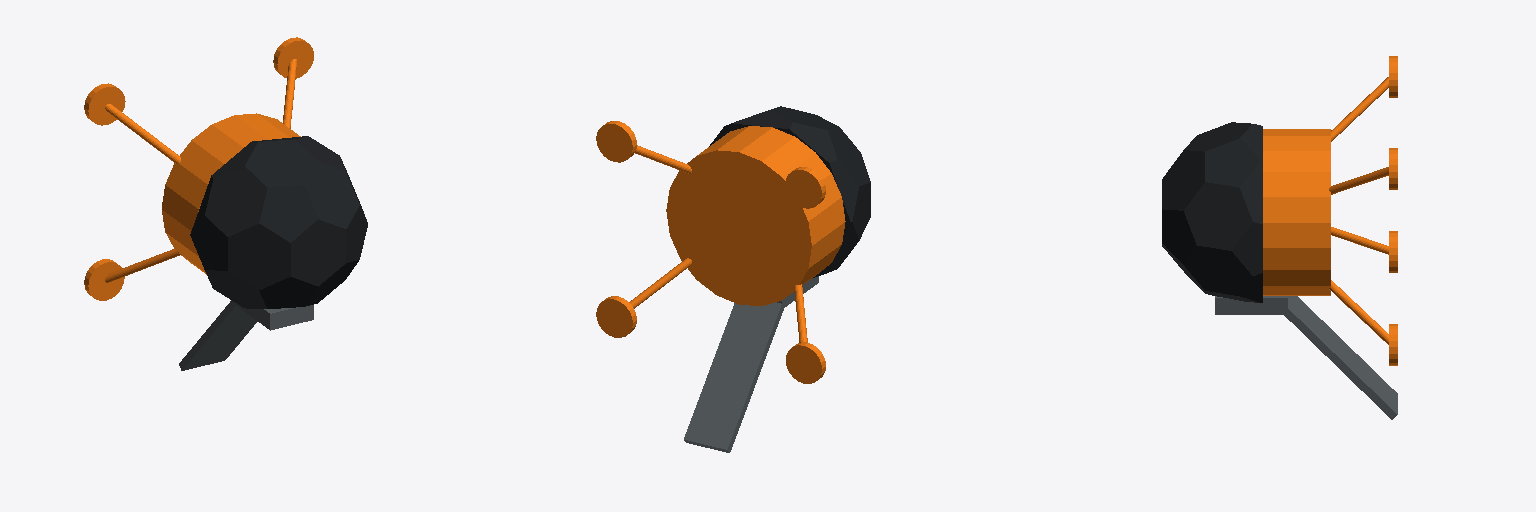
Rendered from tinker.obj.
3 views of the same model, side by side, from view 1: azimuth 30°, elevation 25°; view 2: azimuth 150°, elevation 25°; view 3: azimuth 270°, elevation 25° (orthographic).
Parts seen in each view (by area): view 1: obj_0; view 2: obj_0; view 3: obj_0.
Part boxes in pixels (bbox=[...]): obj_0: bbox=[84, 37, 367, 370]; obj_0: bbox=[596, 106, 870, 452]; obj_0: bbox=[1162, 56, 1397, 419].
Size of the model in its own units: 31 by 39.85 by 28.